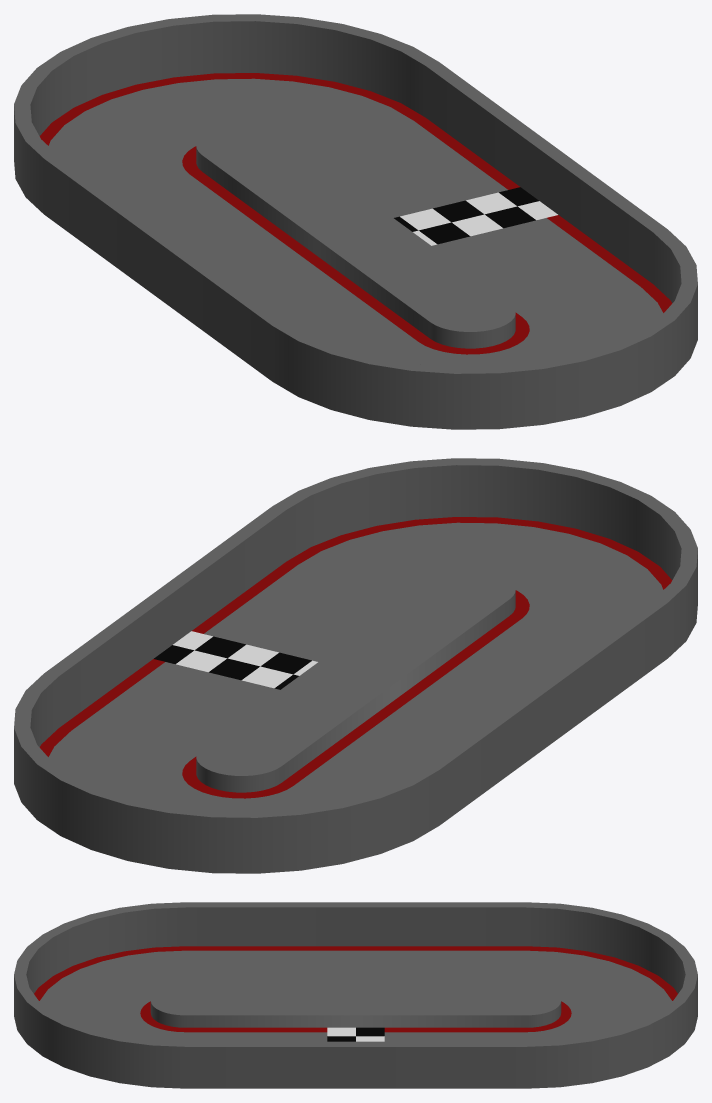
File: Mockup Arena.fbx
The picture shows the model from 3 angles, top to bottom: view 1: azimuth 30°, elevation 25°; view 2: azimuth 150°, elevation 25°; view 3: azimuth 270°, elevation 25°; orthographic projection. The views are drawn at different scales.
Visible parts, largest first — view 1: Track; view 2: Track; view 3: Track.
Boxes of the visible parts, box(x1,y1,x2,y2) form: Track: box(14, 14, 697, 429); Track: box(14, 458, 697, 873); Track: box(14, 902, 697, 1088).
Bounding box in the file's own units: 12000 × 1620 × 24000.
